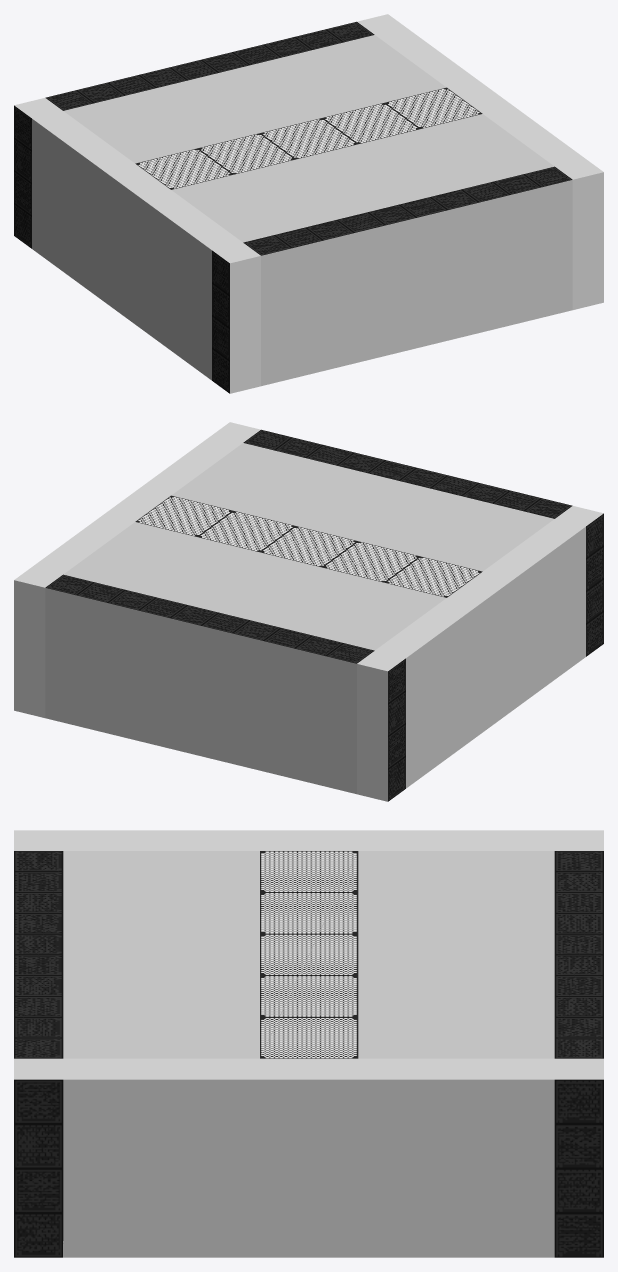
The model's file is Cube3x3WithLamp.fbx.
The picture shows the model from 3 angles, top to bottom: view 1: azimuth 30°, elevation 25°; view 2: azimuth 150°, elevation 25°; view 3: azimuth 270°, elevation 25°; orthographic projection. The views are drawn at different scales.
Parts seen in each view (by area): view 1: Cube.015; view 2: Cube.015; view 3: Cube.015.
Boxes of the visible parts, box(x1,y1,x2,y2) form: Cube.015: box(14, 14, 603, 393); Cube.015: box(14, 422, 603, 801); Cube.015: box(14, 830, 603, 1257).
Bounding box in the file's own units: 1200 × 400 × 1200.
